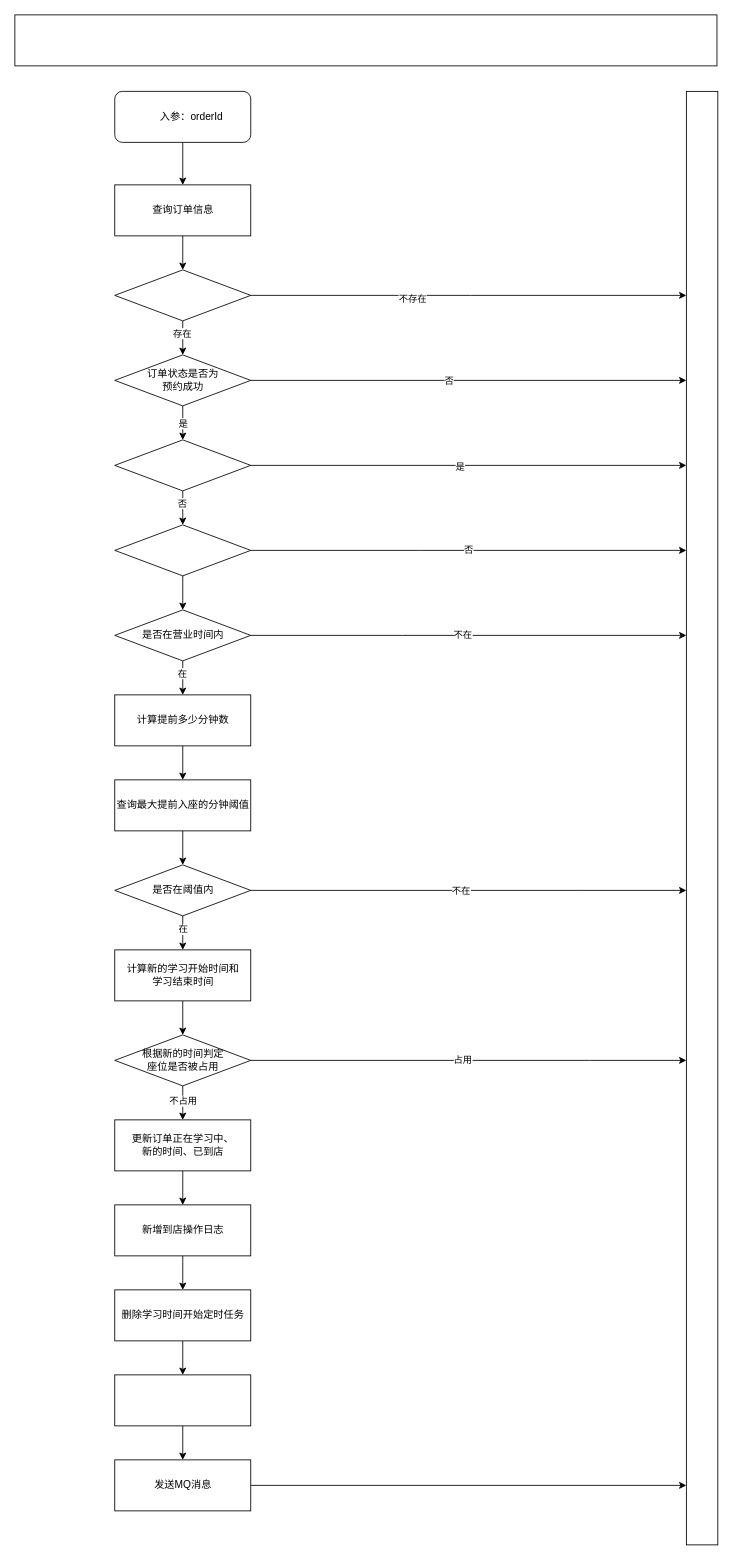
Some shapes in this 733 by 1560 pixel diagram are drawn without their labels. The centre of each missing label's shape, as x and y in pixels:
删除未到店定时任务: (x=182, y=1400)
包月卡支付: (x=182, y=465)
套餐服务的流程: (x=365, y=40)
当前时间与订单开始 时间是否同一天: (x=182, y=550)
是否存在订单: (x=182, y=295)
结 束: (x=702, y=818)
